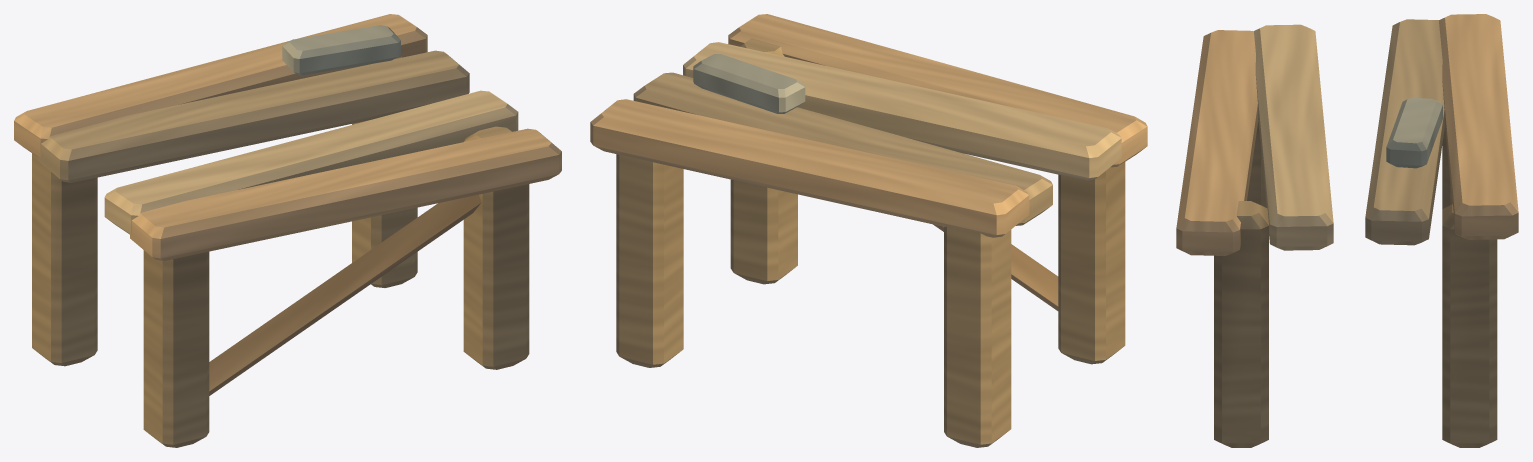
The model's file is workbench_old.glb.
3 views of the same model, side by side, from view 1: azimuth 30°, elevation 25°; view 2: azimuth 150°, elevation 25°; view 3: azimuth 270°, elevation 25° (orthographic). The views are drawn at different scales.
Parts seen in each view (by area): view 1: Werkbank · Lose Bretter und Werkzeug; view 2: Werkbank · Lose Bretter und Werkzeug; view 3: Werkbank · Lose Bretter und Werkzeug.
Boxes of the visible parts, left/top/right/bottom form: Werkbank · Lose Bretter und Werkzeug: left=14, top=14, right=561, bottom=447; Werkbank · Lose Bretter und Werkzeug: left=590, top=14, right=1147, bottom=447; Werkbank · Lose Bretter und Werkzeug: left=1176, top=14, right=1518, bottom=447.
Size of the model in its own units: 1.2 by 0.799 by 0.8696.
2 materials, 2 textured.
